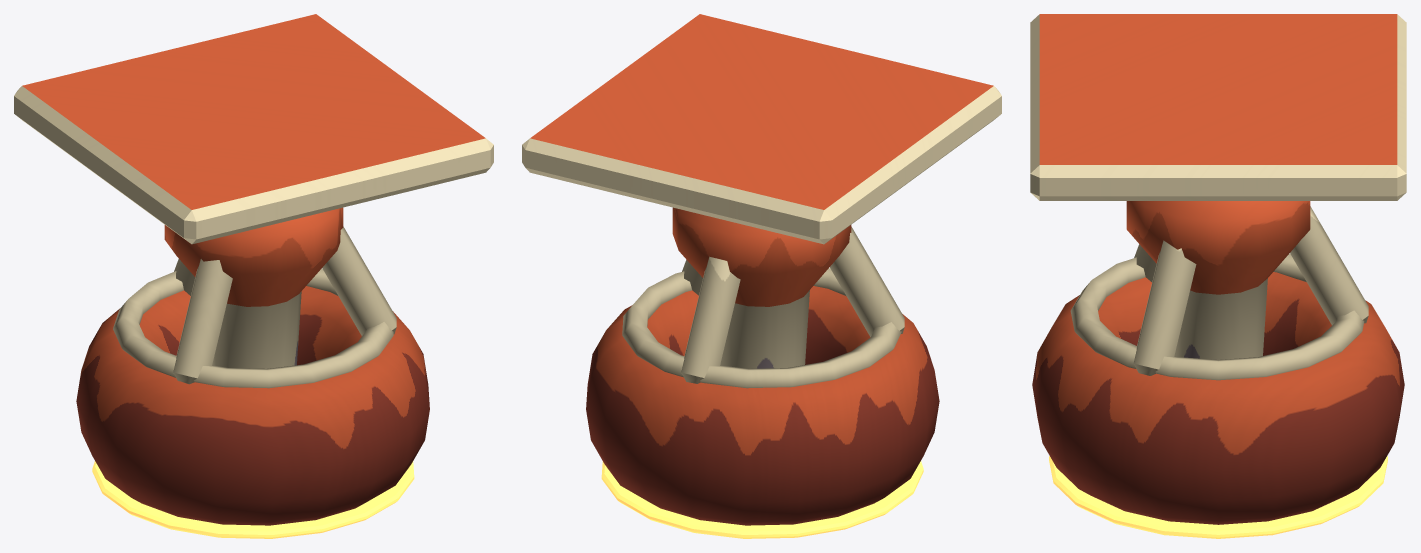
The model's file is R4M_HoverEngine_LOD1.glb.
The picture shows the model from 3 angles, left to right: view 1: azimuth 30°, elevation 25°; view 2: azimuth 150°, elevation 25°; view 3: azimuth 270°, elevation 25°; orthographic projection. The views are drawn at different scales.
Parts seen in each view (by area): view 1: R4M_HoverEngine_LOD1; view 2: R4M_HoverEngine_LOD1; view 3: R4M_HoverEngine_LOD1.
Boxes of the visible parts, box(x1,y1,x2,y2) form: R4M_HoverEngine_LOD1: box(14, 14, 493, 538); R4M_HoverEngine_LOD1: box(522, 14, 1001, 538); R4M_HoverEngine_LOD1: box(1030, 14, 1406, 538).
Bounding box in the file's own units: 0.52 × 0.577 × 0.52.
Materials: 4 (3 with a texture image).
